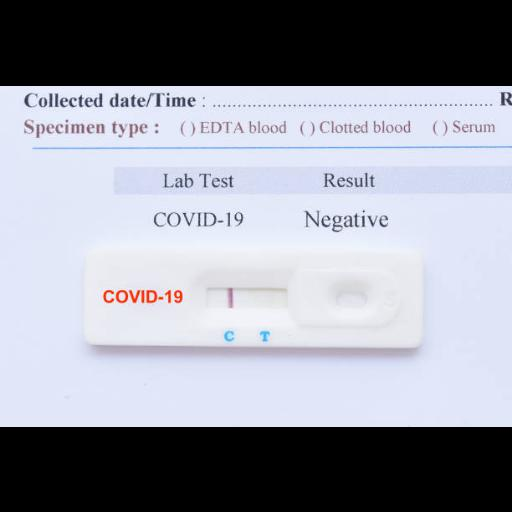Neg: (88, 246, 422, 346)
